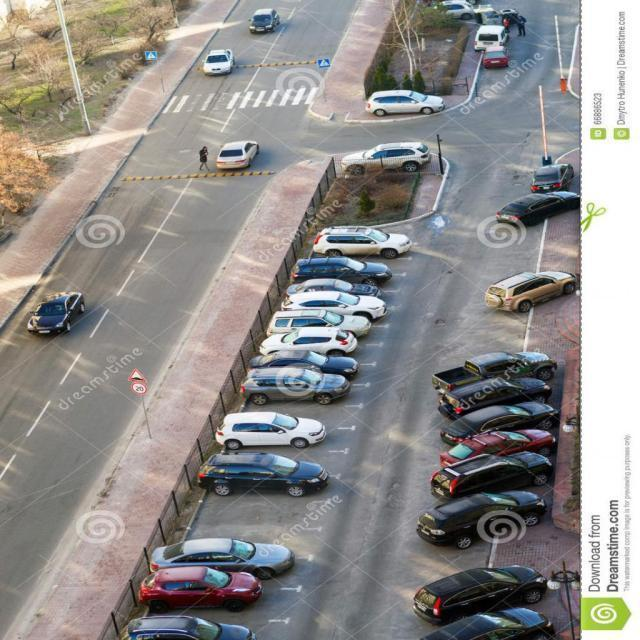space-empty: (207, 442, 342, 477), (193, 499, 334, 528), (172, 524, 315, 546), (237, 399, 348, 424), (296, 251, 403, 265)
space-occupied: (148, 582, 289, 623), (159, 552, 309, 577), (193, 470, 332, 495), (246, 377, 369, 403), (246, 357, 374, 380), (230, 422, 343, 447), (254, 335, 387, 356), (257, 317, 381, 335), (292, 262, 402, 282), (318, 232, 413, 255), (285, 298, 392, 316), (283, 283, 396, 298)
